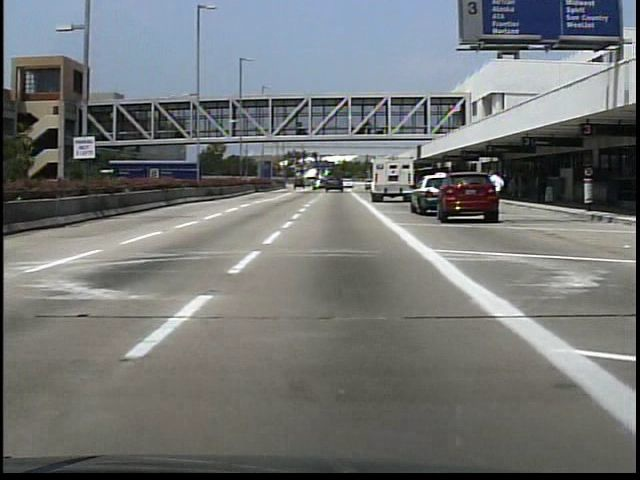person: (486, 170, 506, 224)
